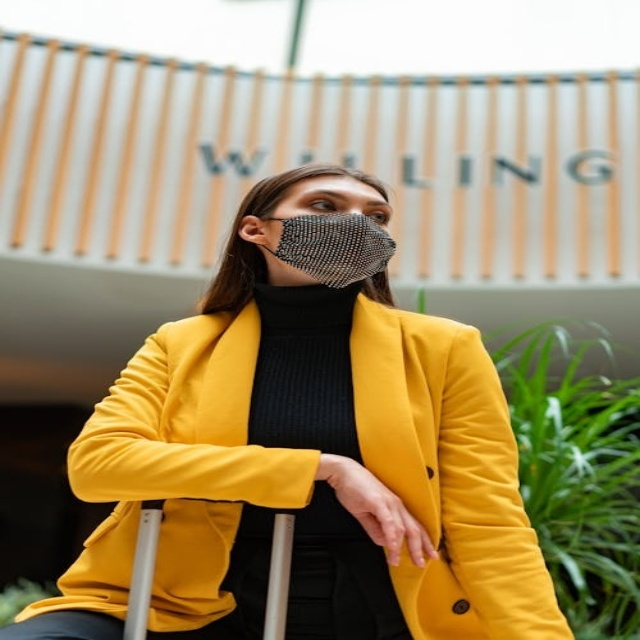Mascara: (258, 212, 398, 288)
Sin_gafas: (294, 186, 392, 224)
Sin_guantes: (321, 451, 440, 571)
